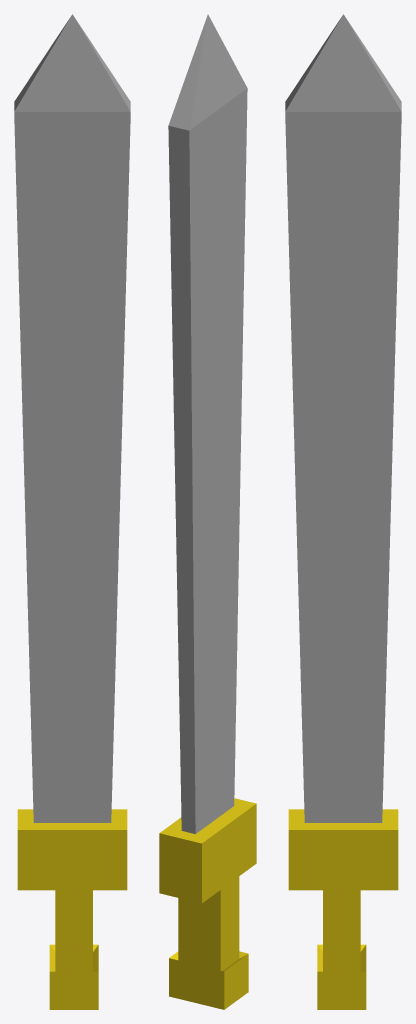
File: Sword.fbx
3 renders of one model, left to right at view 1: azimuth 90°, elevation 25°; view 2: azimuth 150°, elevation 25°; view 3: azimuth 270°, elevation 25°, orthographic.
Parts seen in each view (by area): view 1: Cube; view 2: Cube; view 3: Cube.
Boxes of the visible parts, x1,y1,x2,y2 form: Cube: (14,14,130,1009); Cube: (159,14,256,1009); Cube: (285,14,401,1009).
Bounding box in the file's own units: 26.76 × 453 × 48.74.
